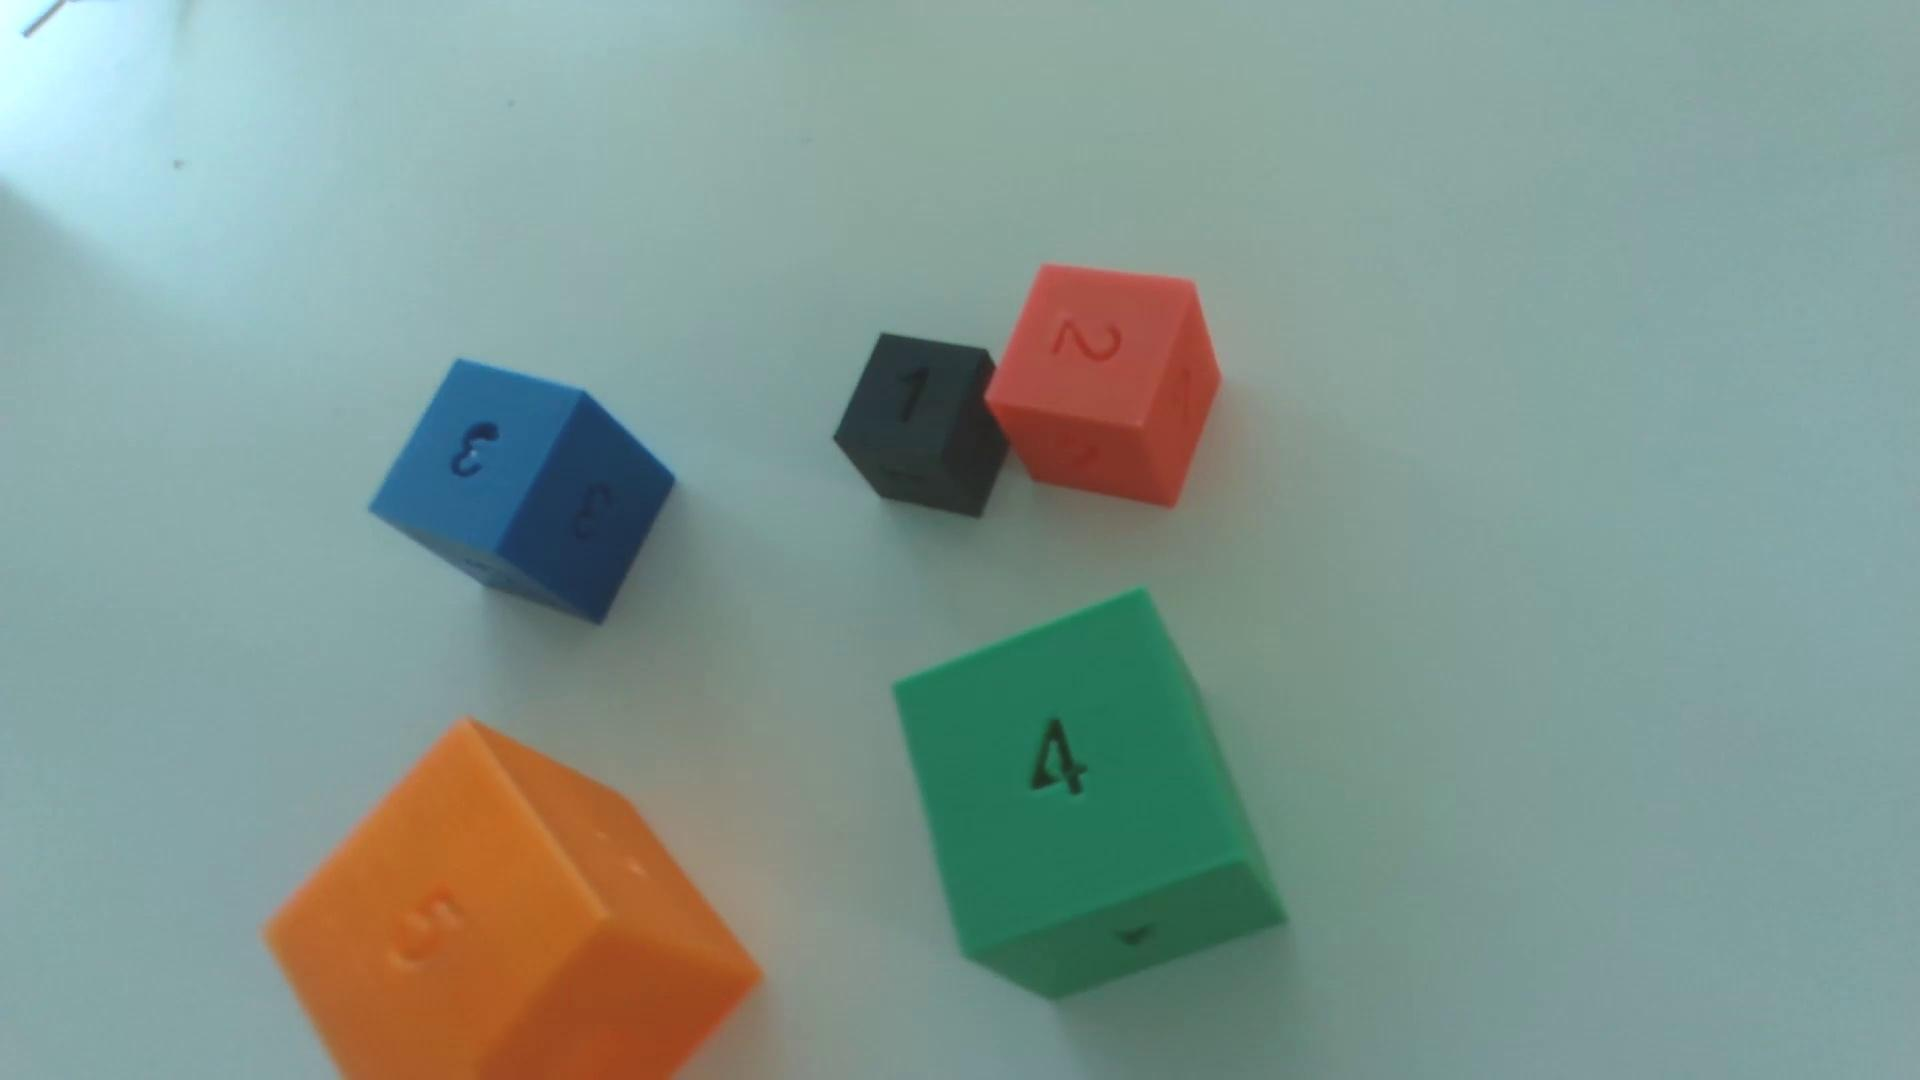black: (833, 334, 1007, 520)
blue: (371, 360, 676, 624)
green: (895, 591, 1283, 1000)
orange: (265, 723, 760, 1080)
red: (988, 266, 1220, 508)
